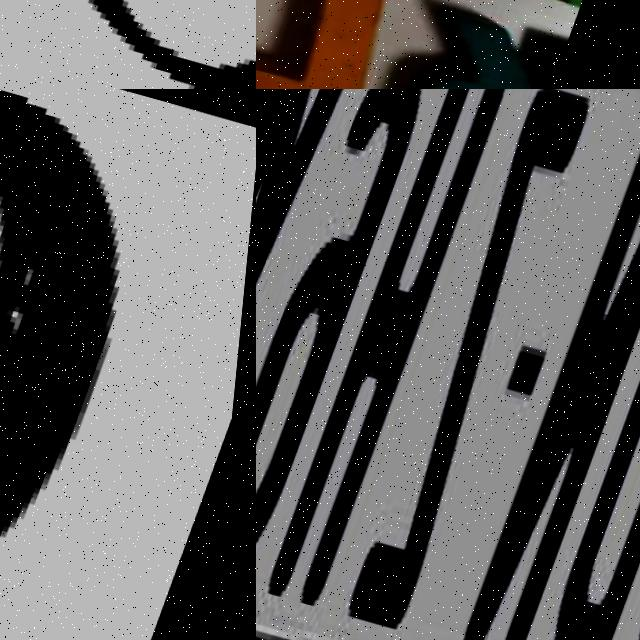6: (0, 89, 205, 640), (256, 89, 445, 601)
D: (532, 128, 640, 640)
H: (272, 89, 518, 607)
L: (256, 0, 415, 89)
N: (454, 107, 640, 640)
S: (0, 0, 256, 89)
X: (256, 89, 369, 566)
Z: (356, 89, 600, 623)
